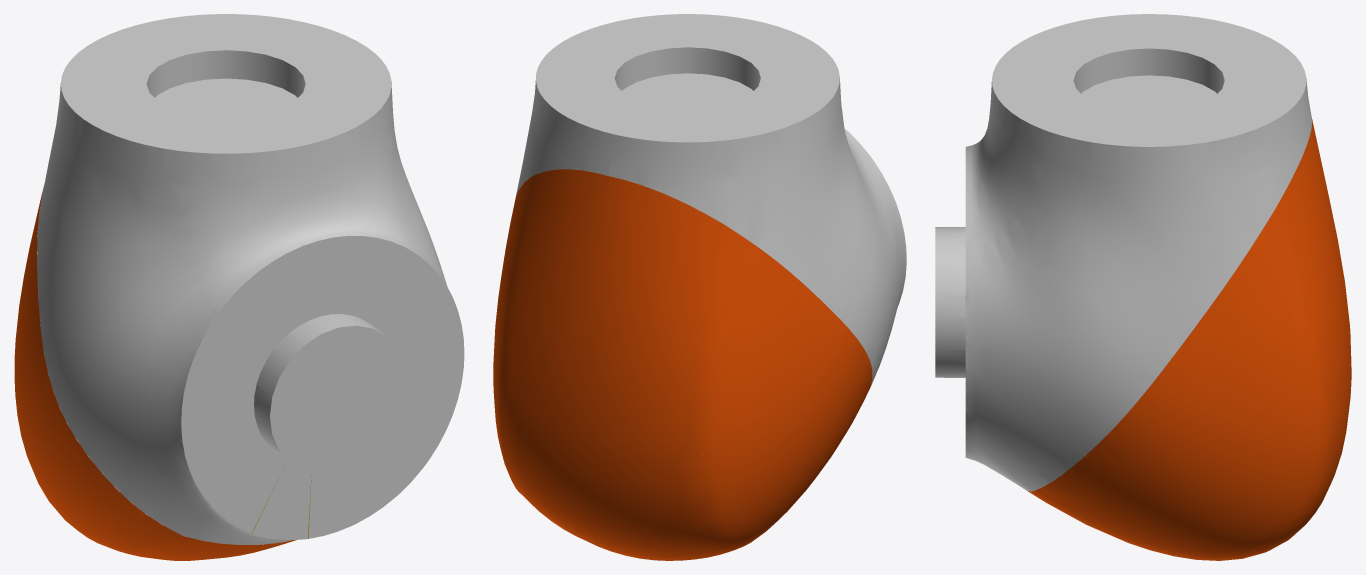
The picture shows the model from 3 angles, left to right: view 1: azimuth 30°, elevation 25°; view 2: azimuth 150°, elevation 25°; view 3: azimuth 270°, elevation 25°; orthographic projection. The views are drawn at different scales.
Visible parts, largest first — view 1: ShapeIndexedFaceSet; view 2: ShapeIndexedFaceSet; view 3: ShapeIndexedFaceSet.
Boxes of the visible parts, x1,y1,x2,y2 form: ShapeIndexedFaceSet: [14, 14, 464, 560]; ShapeIndexedFaceSet: [493, 14, 906, 560]; ShapeIndexedFaceSet: [935, 14, 1351, 560].
Bounding box in the file's own units: 13.22 × 16.73 × 13.76.
